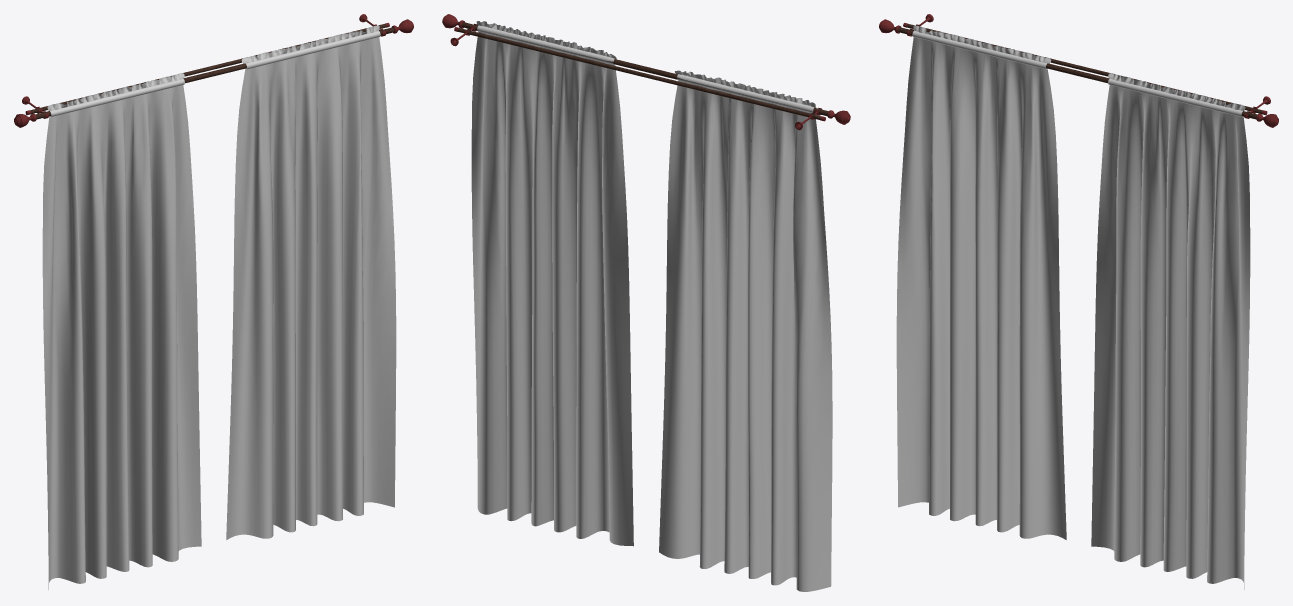
3 renders of one model, left to right at view 1: azimuth 30°, elevation 25°; view 2: azimuth 150°, elevation 25°; view 3: azimuth 330°, elevation 25°, orthographic. The views are drawn at different scales.
Visible parts, largest first — view 1: Curtain_605; view 2: Curtain_605; view 3: Curtain_605.
Part boxes in pixels (<box>): Curtain_605: <box>14,14,413,589</box>; Curtain_605: <box>442,14,850,591</box>; Curtain_605: <box>879,14,1278,589</box>.
Size of the model in its own units: 221 by 253 by 26.98.
